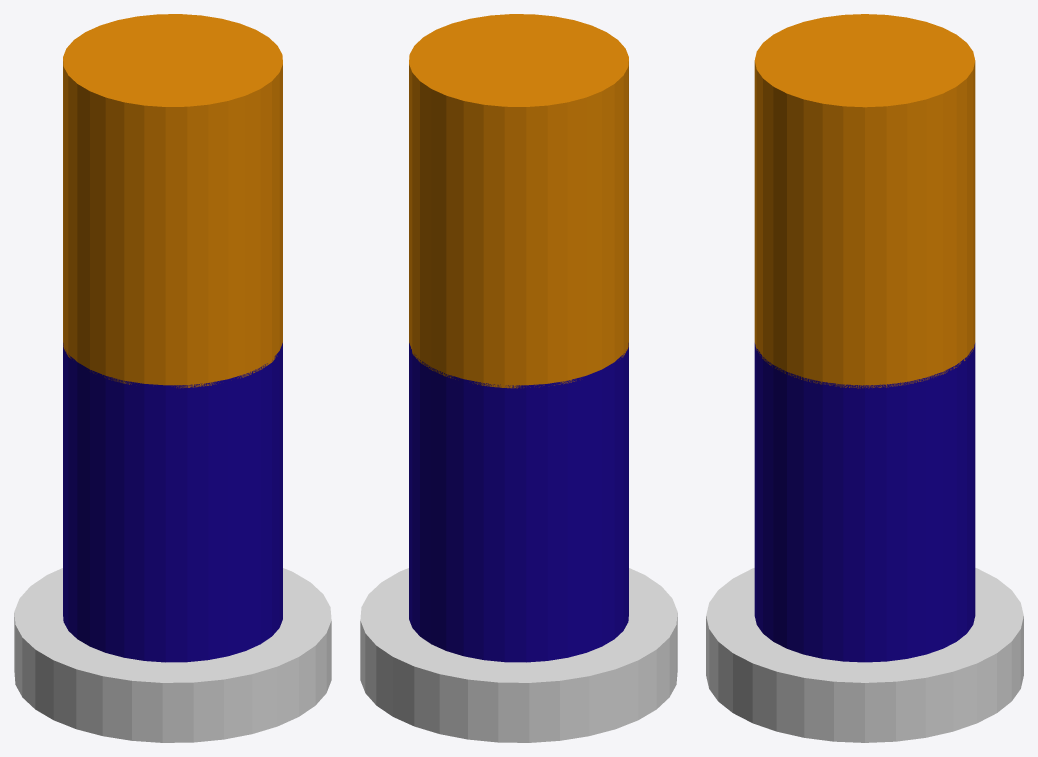
Rendered from pill_buoy.dae.
The picture shows the model from 3 angles, left to right: view 1: azimuth 30°, elevation 25°; view 2: azimuth 150°, elevation 25°; view 3: azimuth 270°, elevation 25°; orthographic projection.
Visible parts, largest first — view 1: Cylinder; view 2: Cylinder; view 3: Cylinder.
Part boxes in pixels (x1,y1,x2,y2): Cylinder: [14, 14, 331, 742]; Cylinder: [360, 14, 677, 742]; Cylinder: [706, 14, 1023, 742].
Size of the model in its own units: 0.576 by 0.576 by 1.23.
